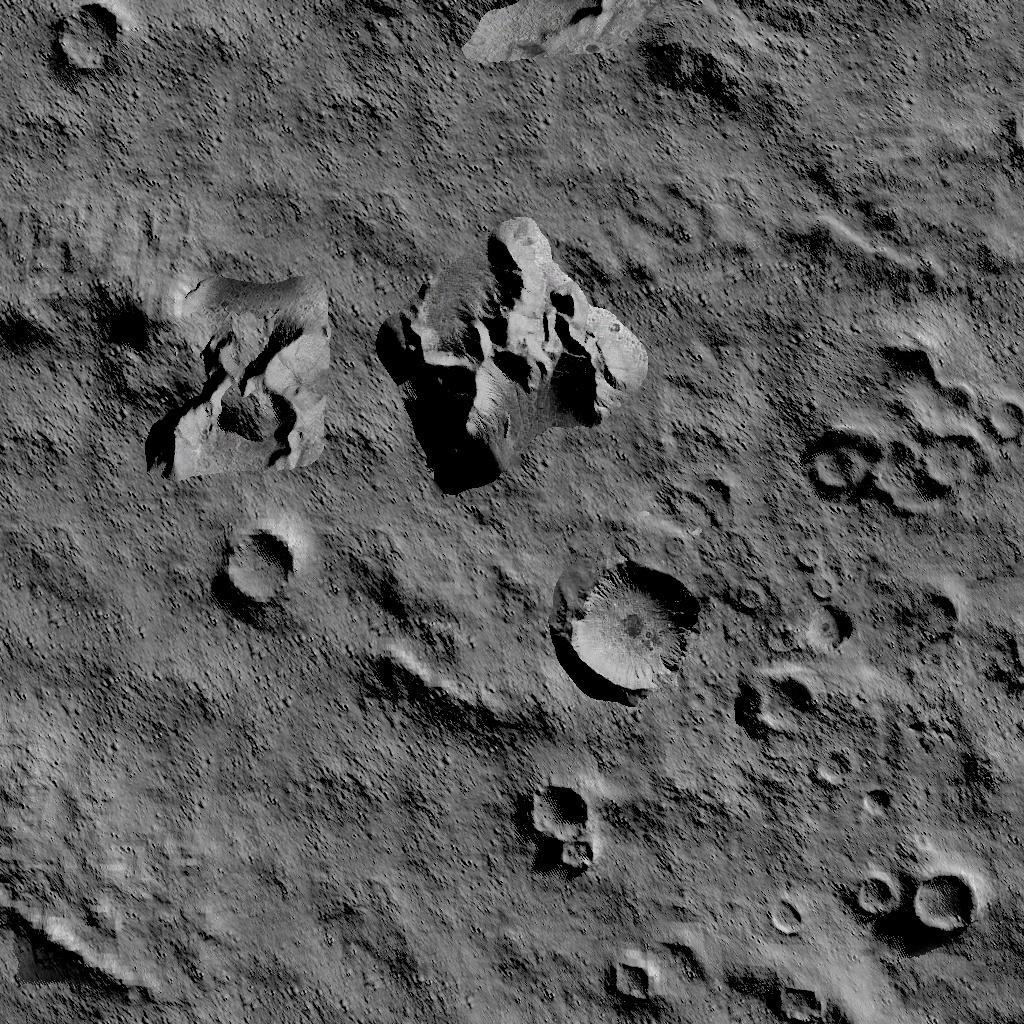Boulders: (0, 208, 331, 478), (376, 220, 648, 493), (331, 0, 823, 130), (786, 142, 1024, 300), (0, 888, 176, 1010), (360, 645, 550, 745)
Crater: (806, 342, 1024, 520), (561, 560, 705, 698), (846, 862, 980, 942), (523, 778, 598, 882), (216, 530, 298, 613), (46, 0, 131, 80), (741, 660, 820, 740), (768, 975, 828, 1024), (608, 958, 658, 1008)
Plan surface: (0, 490, 206, 875), (221, 758, 513, 1024), (146, 0, 320, 195)
